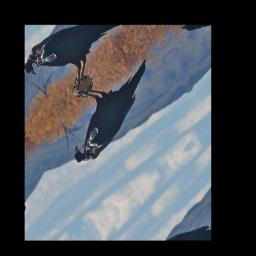Crow: (50, 41, 168, 173)
